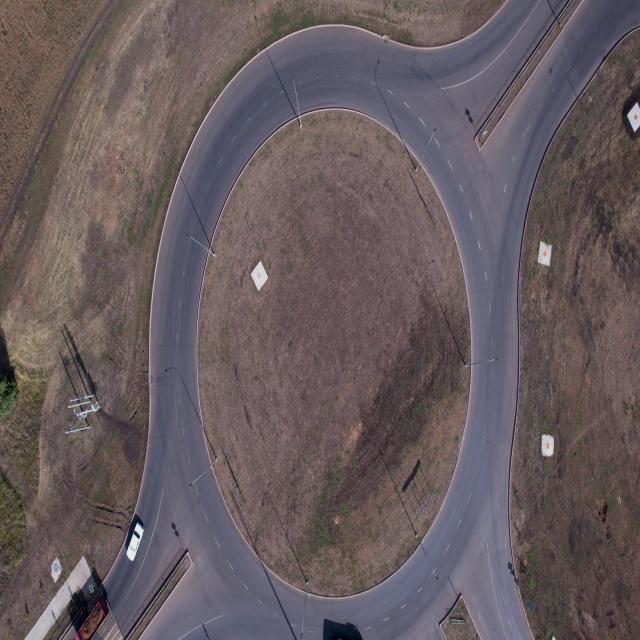Car: (126, 520, 146, 564)
